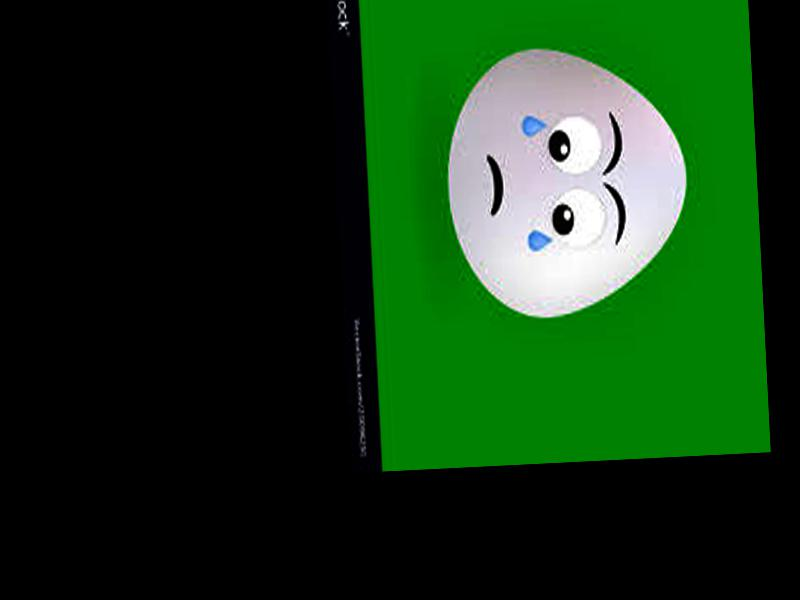Eggs: (441, 39, 690, 320)
